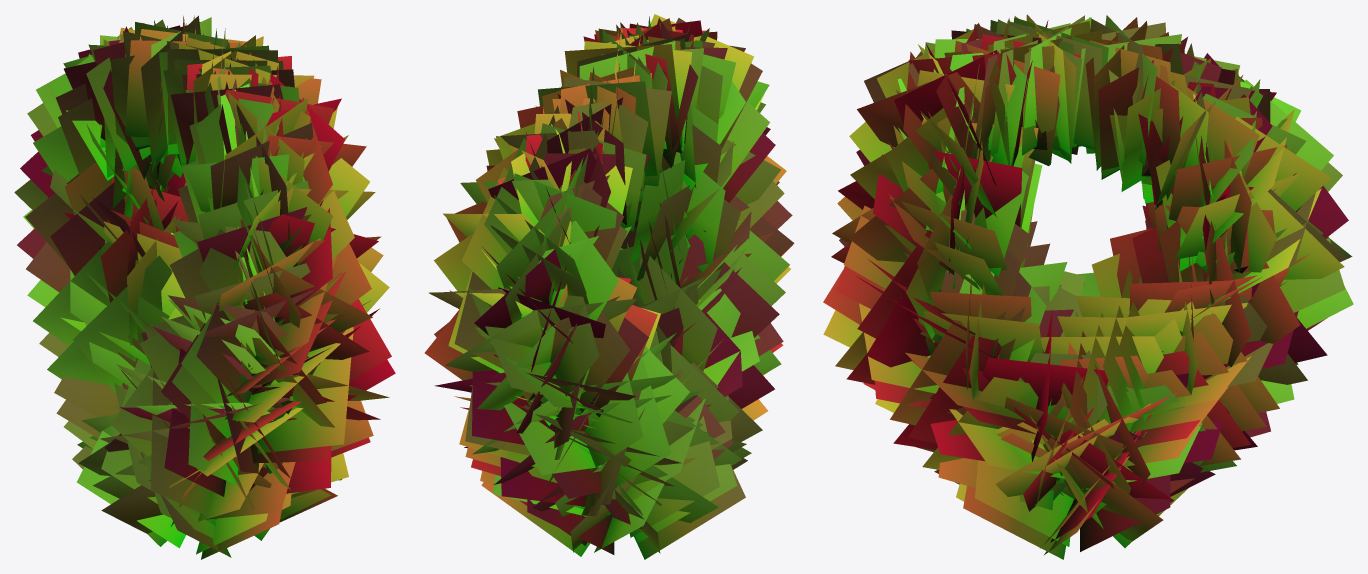
The model's file is URP_P4_Tree_14_LOD_0.fbx.
3 views of the same model, side by side, from view 1: azimuth 30°, elevation 25°; view 2: azimuth 150°, elevation 25°; view 3: azimuth 270°, elevation 25° (orthographic). The views are drawn at different scales.
Visible parts, largest first — view 1: Tree_14_LOD_0; view 2: Tree_14_LOD_0; view 3: Tree_14_LOD_0.
Part boxes in pixels (<box>): Tree_14_LOD_0: <box>14,15,395,559</box>; Tree_14_LOD_0: <box>424,14,794,559</box>; Tree_14_LOD_0: <box>823,14,1353,559</box>.
Size of the model in its own units: 215 by 425 by 402.
